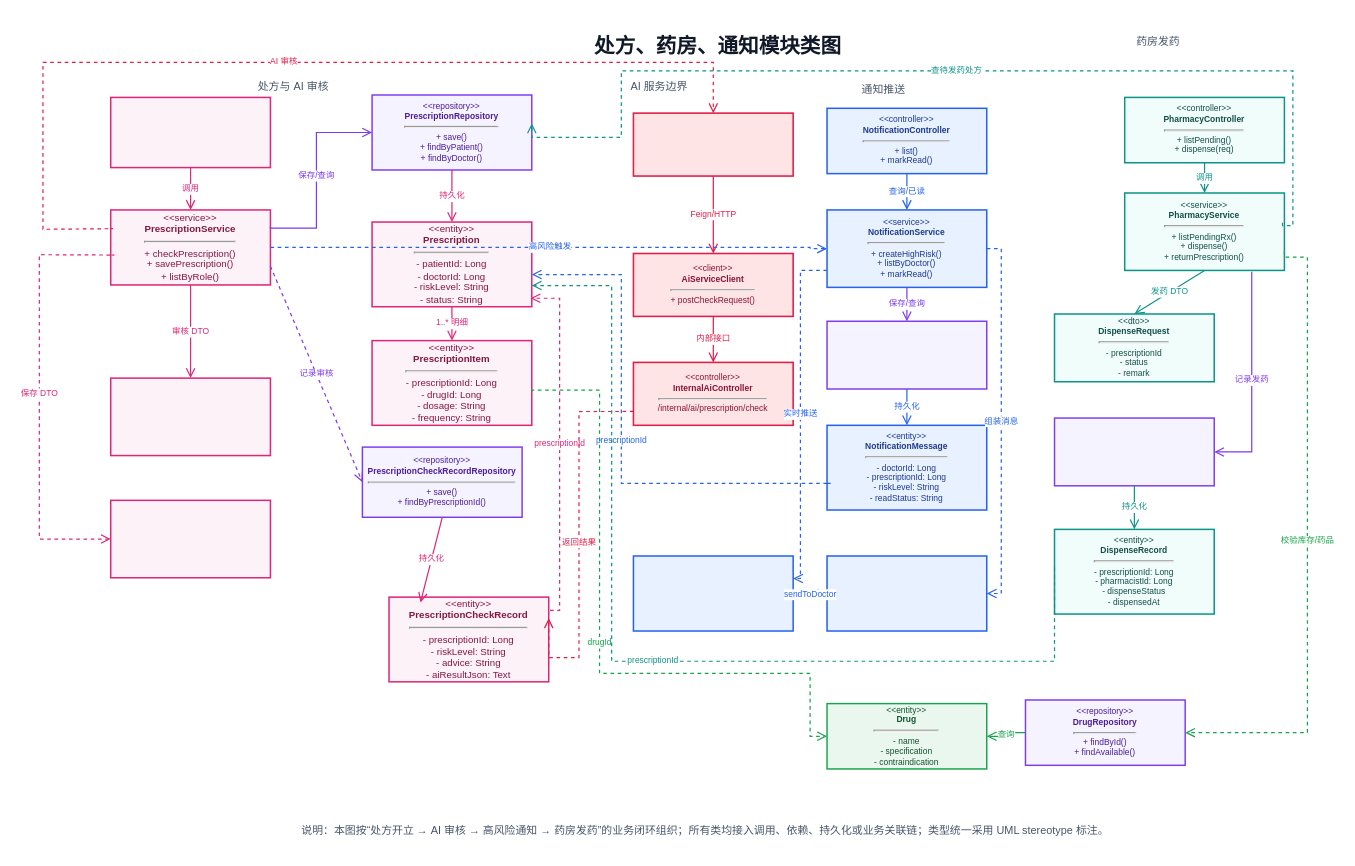
Some shapes in this 1355 by 866 pixel diagram are drawn without their labels. Each missing label, with the centre of its shape:
"<<client>> AiGatewayService + checkPrescription()" goes at point (712, 144).
"<<controller>> PrescriptionController + check(req) + create(req) + list()" goes at point (190, 132).
"<<dto>> CreatePrescriptionRequest - medicalRecordId - items - manualConfirmed" goes at point (190, 538).
"<<dto>> NotificationPayload - type - title - content - createdAt" goes at point (906, 593).
"<<dto>> PrescriptionCheckRequest / Response - items - riskLevel - suggestions" goes at point (190, 416).
"<<repository>> DispenseRecordRepository + save() + findByStatus()" goes at point (1133, 451).
"<<repository>> NotificationRepository + save() + findByDoctorId()" goes at point (906, 354).
"<<websocket>> NotificationWebSocketHandler + registerSession() + sendToDoctor()" goes at point (712, 593).
